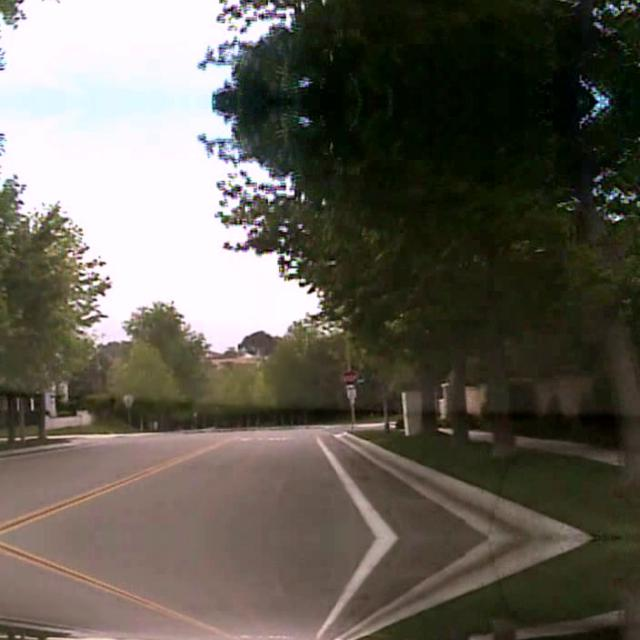stop: (339, 367, 358, 385)
